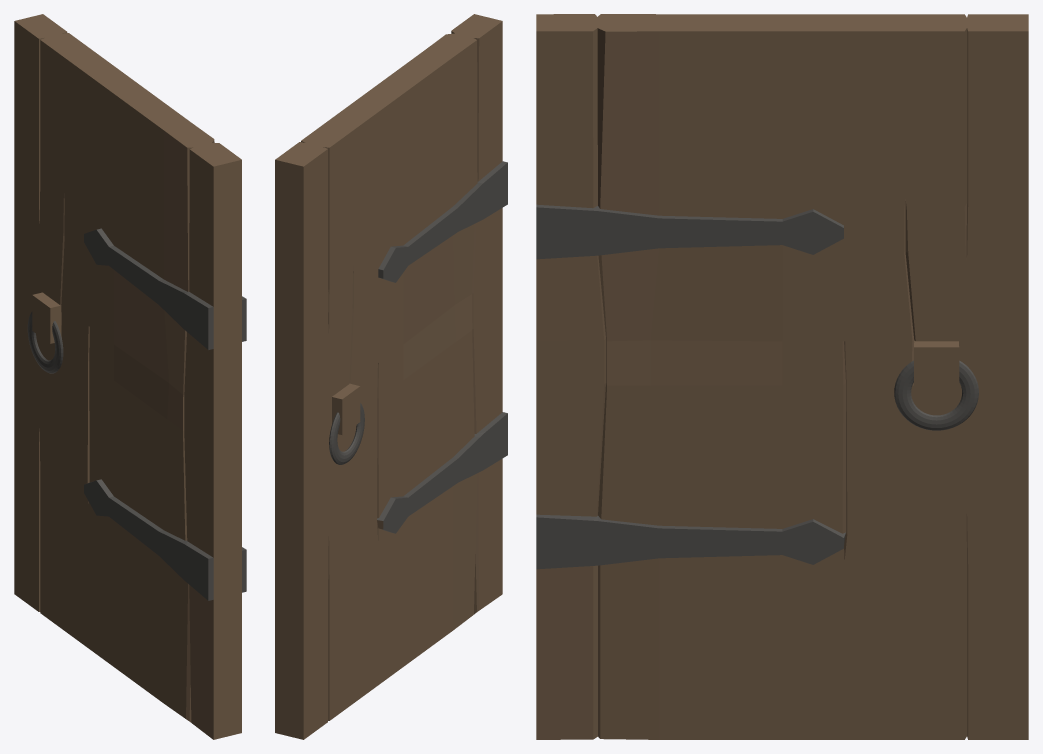
The model's file is DoorOld.fbx.
The picture shows the model from 3 angles, left to right: view 1: azimuth 30°, elevation 25°; view 2: azimuth 150°, elevation 25°; view 3: azimuth 270°, elevation 25°; orthographic projection. The views are drawn at different scales.
Parts seen in each view (by area): view 1: Cube.001, Torus; view 2: Cube.001, Torus; view 3: Cube.001, Torus.001.
Part boxes in pixels (x1=…): Cube.001: x1=14, y1=14, x2=246, y2=739; Torus: x1=27, y1=311, x2=63, y2=373; Cube.001: x1=275, y1=14, x2=507, y2=739; Torus: x1=329, y1=403, x2=364, y2=464; Cube.001: x1=536, y1=14, x2=1028, y2=739; Torus.001: x1=894, y1=360, x2=978, y2=430.
Size of the model in its own units: 108 by 1214 by 764.
